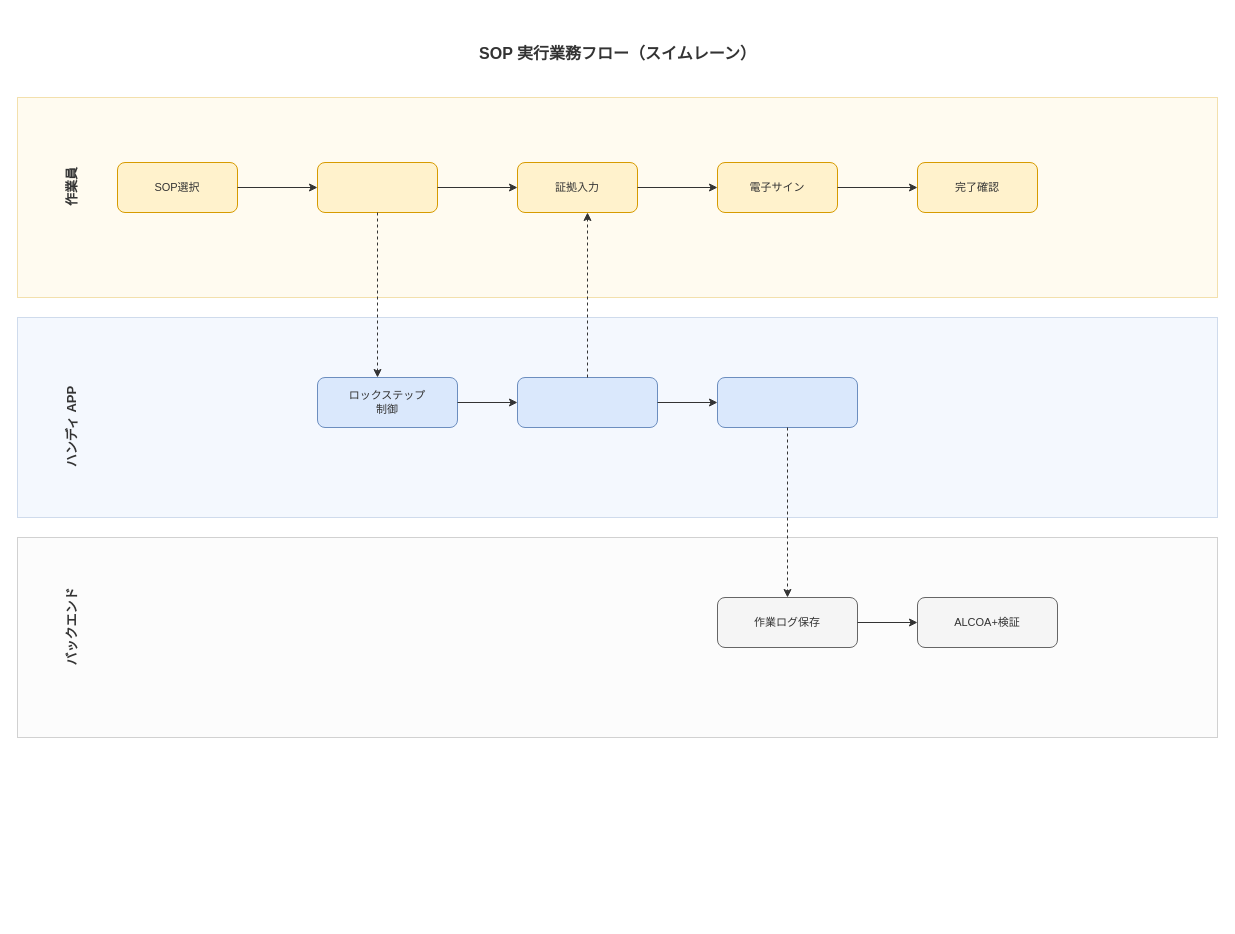
This 1235x934 diagram has some shape labels left out. Here are the shapes that lost their labels. From the top down, the centre of each, then its label:
[377,187]: Step実行
[587,402]: 次Step解放
[787,402]: Outbox登録
